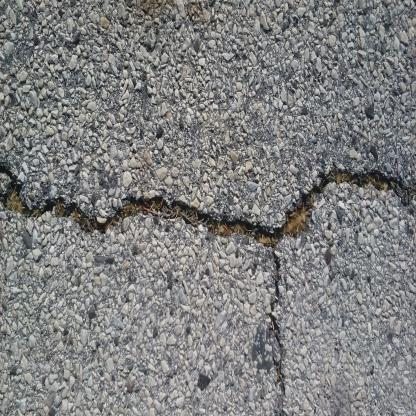Cracks: (0, 155, 415, 254)
